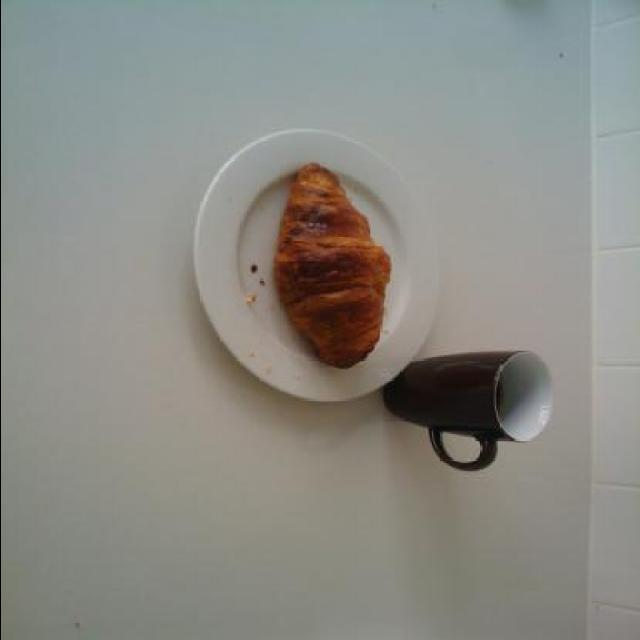Croissant: (277, 162, 393, 372)
